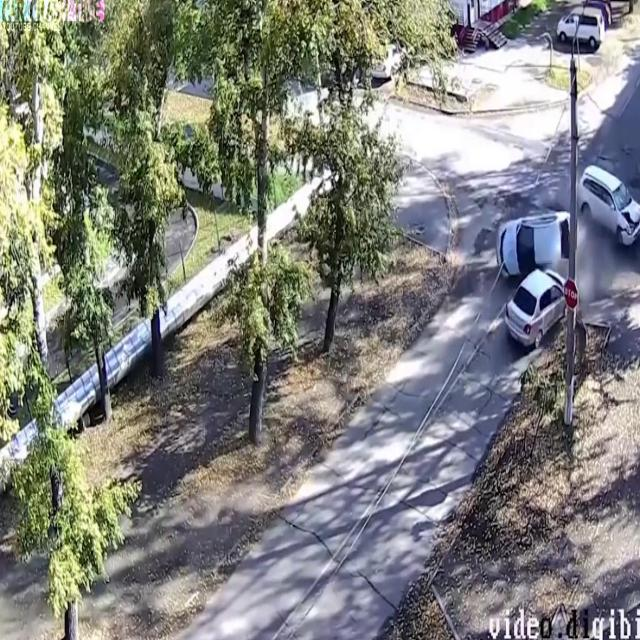accident: (492, 156, 640, 357)
